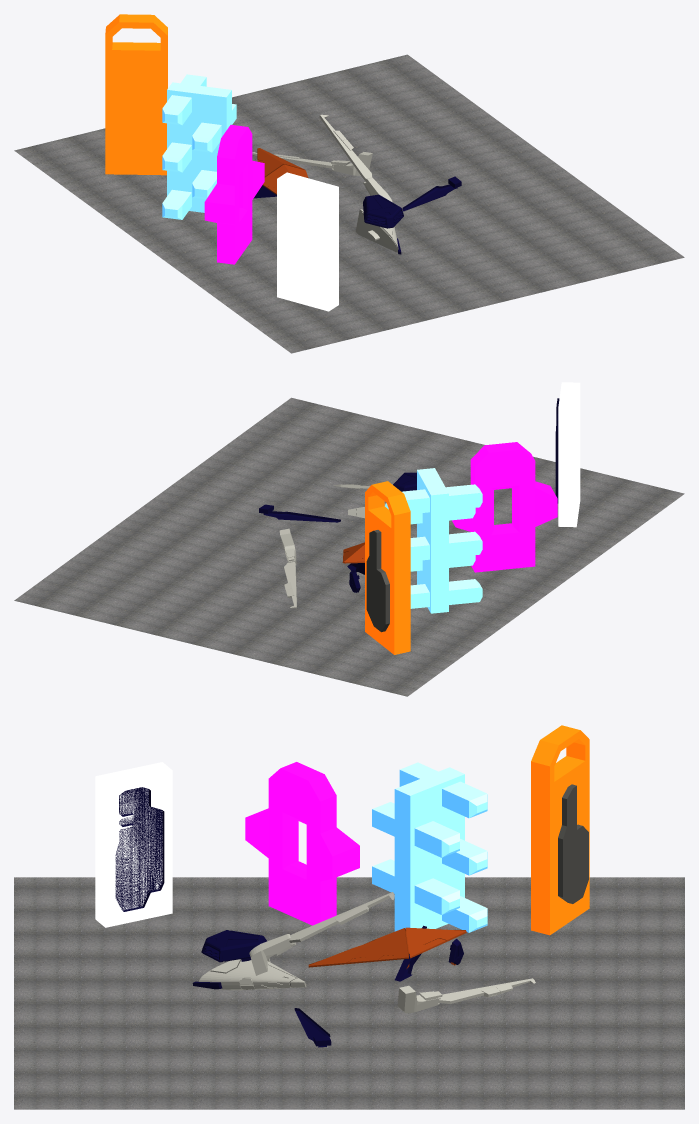
File: env.glb
3 renders of one model, top to bottom at view 1: azimuth 30°, elevation 25°; view 2: azimuth 150°, elevation 25°; view 3: azimuth 270°, elevation 25°, orthographic. The views are drawn at different scales.
Visible parts, largest first — view 1: floor, Cube.004, Cube, Cube.003, Cube.001, Cube.037, Cube.068, Plane.003, Cube.070, Cube.042, Cube.066; view 2: floor, Cube.003, Cube.001, Cube.004, Cube, Cube.005, Cube.042, Cube.066; view 3: floor, Cube.003, Cube.001, Cube, Cube.004, Cube.002, Plane.003, Cube.005, Cube.070, Cube.068, Cube.042, Cube.037 (+1 smaller).
Boxes of the visible parts, box(x1,y1,x2,y2) form: floor: box(14, 54, 684, 353); Cube.004: box(105, 14, 167, 175); Cube: box(277, 172, 338, 311); Cube.003: box(162, 74, 236, 219); Cube.001: box(204, 124, 264, 264); Cube.037: box(363, 194, 403, 228); Cube.068: box(319, 114, 392, 202); Plane.003: box(257, 148, 308, 194); Cube.070: box(355, 193, 401, 254); Cube.042: box(252, 152, 372, 175); Cube.066: box(402, 176, 461, 211); floor: box(14, 397, 684, 696); Cube.003: box(385, 468, 482, 613); Cube.001: box(452, 442, 557, 572); Cube.004: box(365, 481, 410, 654); Cube: box(558, 382, 580, 527); Cube.005: box(366, 530, 389, 632); Cube.042: box(279, 528, 296, 608); Cube.066: box(259, 504, 340, 522); floor: box(14, 877, 684, 1109); Cube.003: box(372, 762, 487, 932); Cube.001: box(245, 762, 359, 925); Cube: box(95, 762, 172, 927); Cube.004: box(531, 725, 589, 935); Cube.002: box(115, 787, 164, 911); Plane.003: box(308, 927, 466, 967); Cube.005: box(558, 784, 588, 903); Cube.070: box(192, 958, 306, 990); Cube.068: box(249, 892, 394, 975); Cube.042: box(397, 978, 535, 1013); Cube.037: box(201, 930, 266, 962).
Bounding box in the file's own units: 14.62 × 5.62 × 17.84.
Materials: 10 (1 with a texture image).
